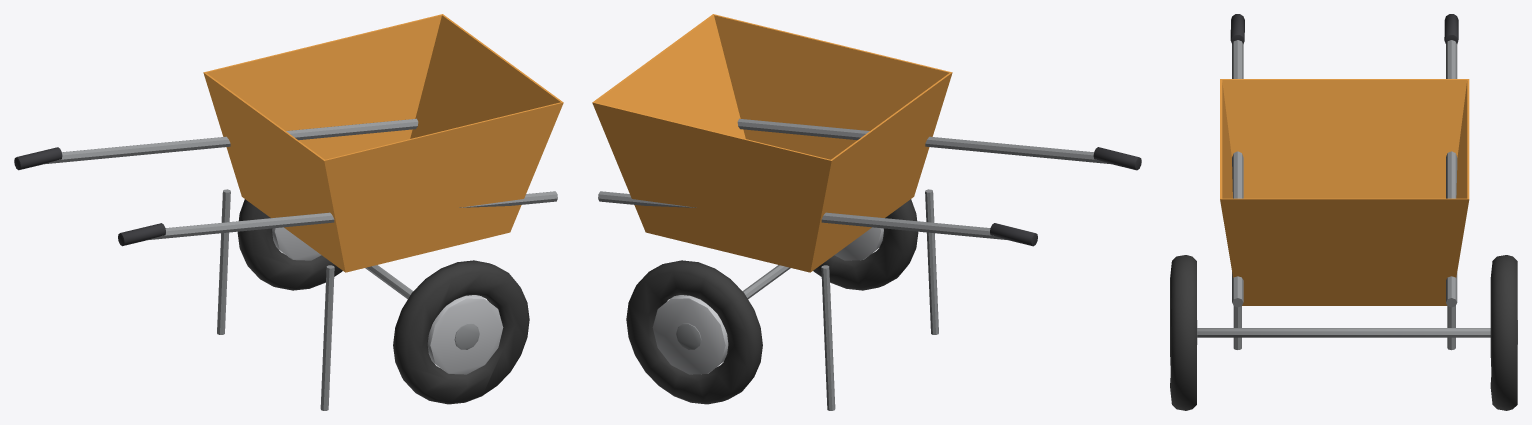
The model's file is EQP-MAO-002_lod1.glb.
The picture shows the model from 3 angles, left to right: view 1: azimuth 30°, elevation 25°; view 2: azimuth 150°, elevation 25°; view 3: azimuth 270°, elevation 25°; orthographic projection. The views are drawn at different scales.
Parts seen in each view (by area): view 1: EQP-MAO-002_cacamba, EQP-MAO-002_roda-1_pneu, EQP-MAO-002_roda-1_aro, EQP-MAO-002_roda1_pneu, EQP-MAO-002_braco1, EQP-MAO-002_braco-1, EQP-MAO-002_pe-1, EQP-MAO-002_pe1, EQP-MAO-002_roda1_aro, EQP-MAO-002_manopla1, EQP-MAO-002_manopla-1, EQP-MAO-002_roda-1_cubo (+1 smaller); view 2: EQP-MAO-002_cacamba, EQP-MAO-002_roda1_pneu, EQP-MAO-002_roda1_aro, EQP-MAO-002_roda-1_pneu, EQP-MAO-002_braco-1, EQP-MAO-002_braco1, EQP-MAO-002_pe1, EQP-MAO-002_pe-1, EQP-MAO-002_roda-1_aro, EQP-MAO-002_manopla-1, EQP-MAO-002_manopla1, EQP-MAO-002_roda1_cubo (+1 smaller); view 3: EQP-MAO-002_cacamba, EQP-MAO-002_roda1_pneu, EQP-MAO-002_roda-1_pneu, EQP-MAO-002_eixo, EQP-MAO-002_braco-1, EQP-MAO-002_braco1, EQP-MAO-002_manopla1, EQP-MAO-002_manopla-1.
Part boxes in pixels (x1,y1,x2,y2): EQP-MAO-002_cacamba: (203, 14, 563, 272); EQP-MAO-002_roda-1_pneu: (393, 260, 529, 404); EQP-MAO-002_roda-1_aro: (427, 295, 503, 374); EQP-MAO-002_roda1_pneu: (237, 199, 342, 290); EQP-MAO-002_braco1: (41, 118, 418, 164); EQP-MAO-002_braco-1: (146, 191, 557, 240); EQP-MAO-002_pe-1: (320, 265, 334, 410); EQP-MAO-002_pe1: (217, 189, 230, 334); EQP-MAO-002_roda1_aro: (272, 227, 321, 260); EQP-MAO-002_manopla1: (14, 147, 62, 170); EQP-MAO-002_manopla-1: (118, 223, 165, 246); EQP-MAO-002_roda-1_cubo: (454, 323, 479, 349); EQP-MAO-002_cacamba: (592, 14, 952, 272); EQP-MAO-002_roda1_pneu: (626, 260, 762, 404); EQP-MAO-002_roda1_aro: (652, 295, 728, 374); EQP-MAO-002_roda-1_pneu: (813, 199, 918, 290); EQP-MAO-002_braco-1: (737, 118, 1112, 164); EQP-MAO-002_braco1: (598, 191, 1009, 240); EQP-MAO-002_pe1: (821, 265, 835, 410); EQP-MAO-002_pe-1: (925, 189, 938, 334); EQP-MAO-002_roda-1_aro: (834, 227, 883, 260); EQP-MAO-002_manopla-1: (1093, 147, 1141, 170); EQP-MAO-002_manopla1: (990, 223, 1037, 246); EQP-MAO-002_roda1_cubo: (676, 323, 701, 349); EQP-MAO-002_cacamba: (1220, 79, 1469, 305); EQP-MAO-002_roda1_pneu: (1490, 255, 1517, 410); EQP-MAO-002_roda-1_pneu: (1170, 255, 1196, 410); EQP-MAO-002_eixo: (1197, 328, 1490, 337); EQP-MAO-002_braco-1: (1232, 40, 1243, 307); EQP-MAO-002_braco1: (1446, 40, 1457, 307); EQP-MAO-002_manopla1: (1444, 14, 1458, 44); EQP-MAO-002_manopla-1: (1230, 14, 1244, 44).
Size of the model in its own units: 1.45 by 0.8206 by 0.976.
